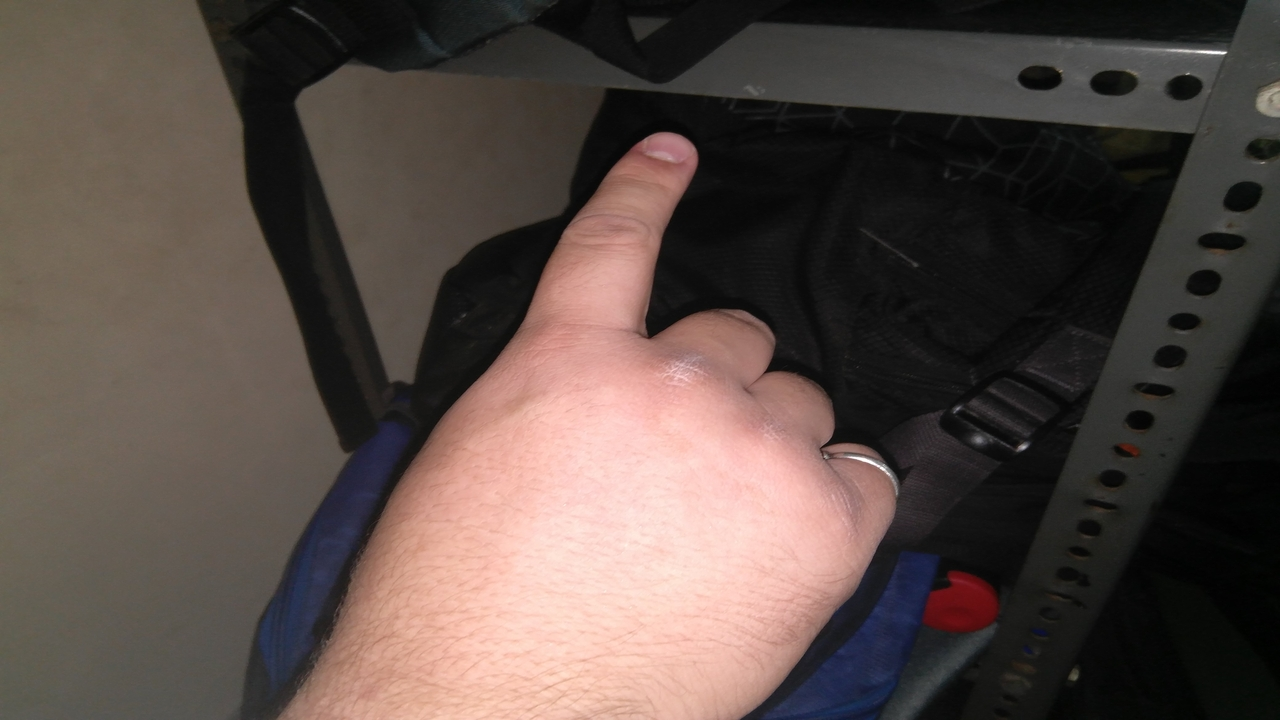fingertip: (618, 118, 706, 192)
